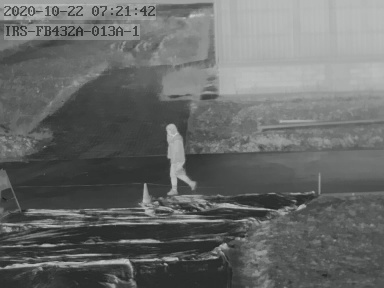person: (166, 123, 196, 194)
